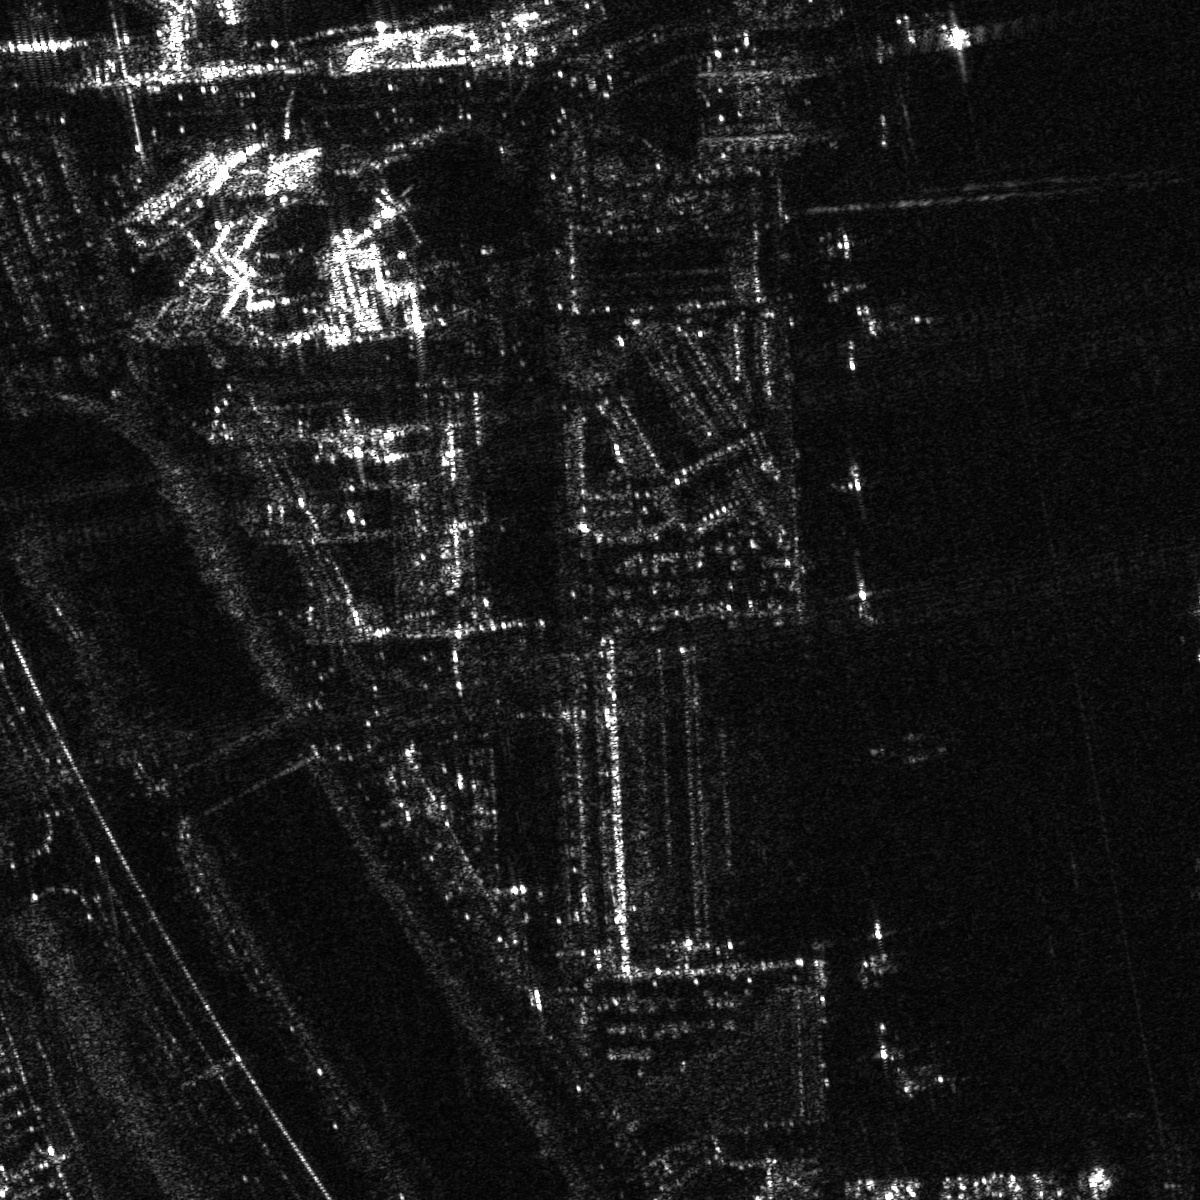A220: (836, 568, 891, 623), (851, 918, 902, 975), (835, 463, 880, 518), (862, 1019, 907, 1073), (811, 230, 871, 264), (845, 300, 882, 340)
other: (884, 1069, 949, 1103), (818, 278, 875, 304)
